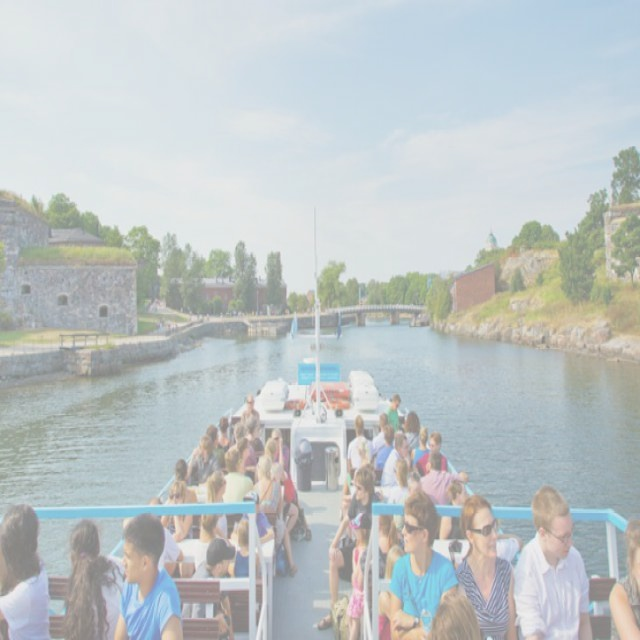pessoa: (511, 481, 596, 639), (386, 486, 459, 639), (316, 467, 380, 632), (110, 508, 187, 639), (454, 494, 520, 639), (454, 498, 518, 638), (58, 514, 130, 638), (0, 499, 54, 639), (179, 535, 238, 639), (176, 452, 218, 580), (270, 426, 313, 544), (253, 437, 300, 534), (606, 513, 639, 639), (252, 454, 284, 580), (186, 432, 222, 542), (346, 509, 374, 639), (160, 480, 194, 580), (146, 496, 184, 576), (378, 543, 407, 639), (192, 509, 234, 574), (344, 466, 384, 532), (428, 590, 483, 638), (418, 448, 462, 506), (144, 296, 211, 334), (393, 470, 422, 550), (238, 490, 276, 544), (222, 444, 256, 504), (438, 478, 468, 542), (232, 517, 262, 581), (387, 458, 413, 531), (378, 518, 407, 582), (412, 430, 449, 480), (204, 468, 230, 539), (346, 412, 374, 476), (380, 432, 410, 489), (214, 302, 315, 318), (232, 416, 262, 462), (174, 456, 199, 504), (205, 424, 228, 472), (410, 426, 432, 470), (240, 393, 260, 441), (375, 424, 395, 469), (402, 409, 422, 452), (345, 440, 368, 474), (372, 411, 389, 455), (214, 415, 233, 454), (386, 392, 404, 432)
